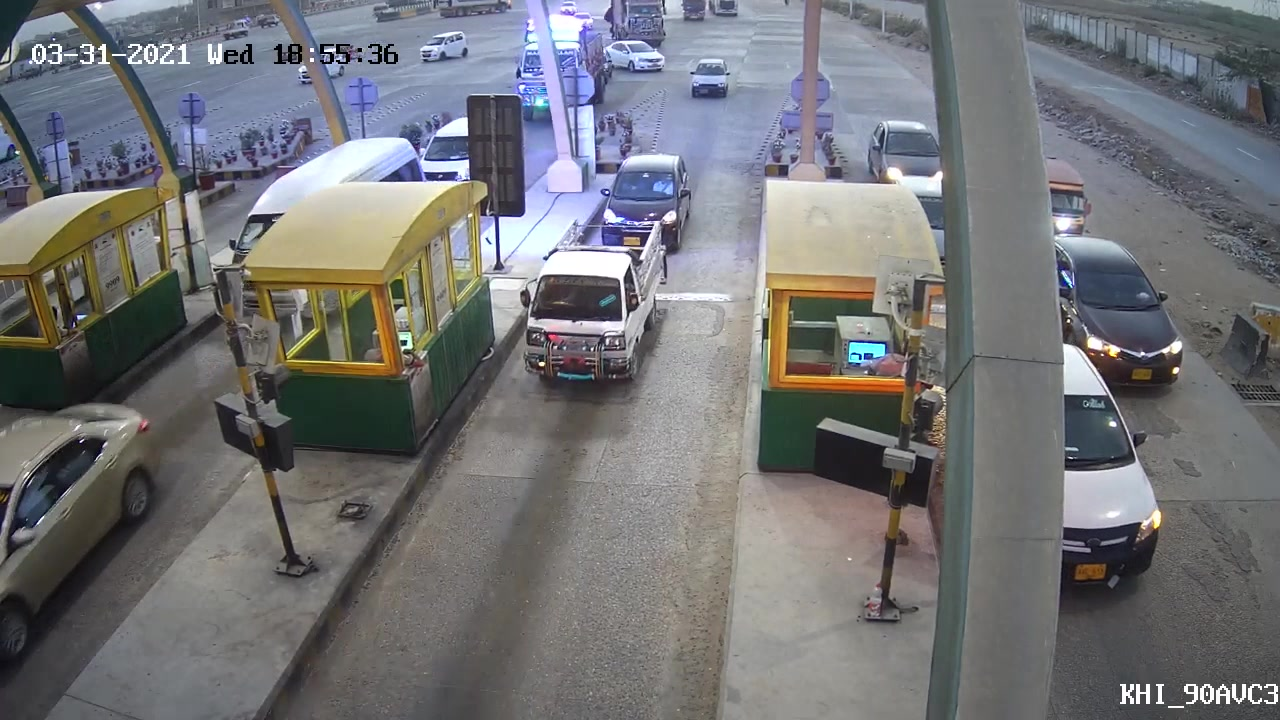F2: (514, 216, 668, 389)
